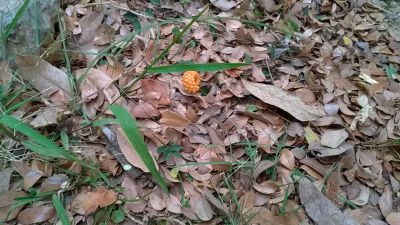eggs: (180, 67, 202, 95)
